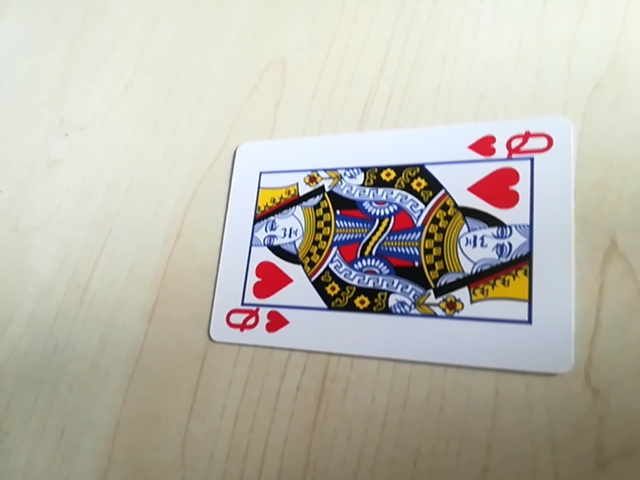hx q: (465, 125, 557, 163), (221, 304, 292, 339)
